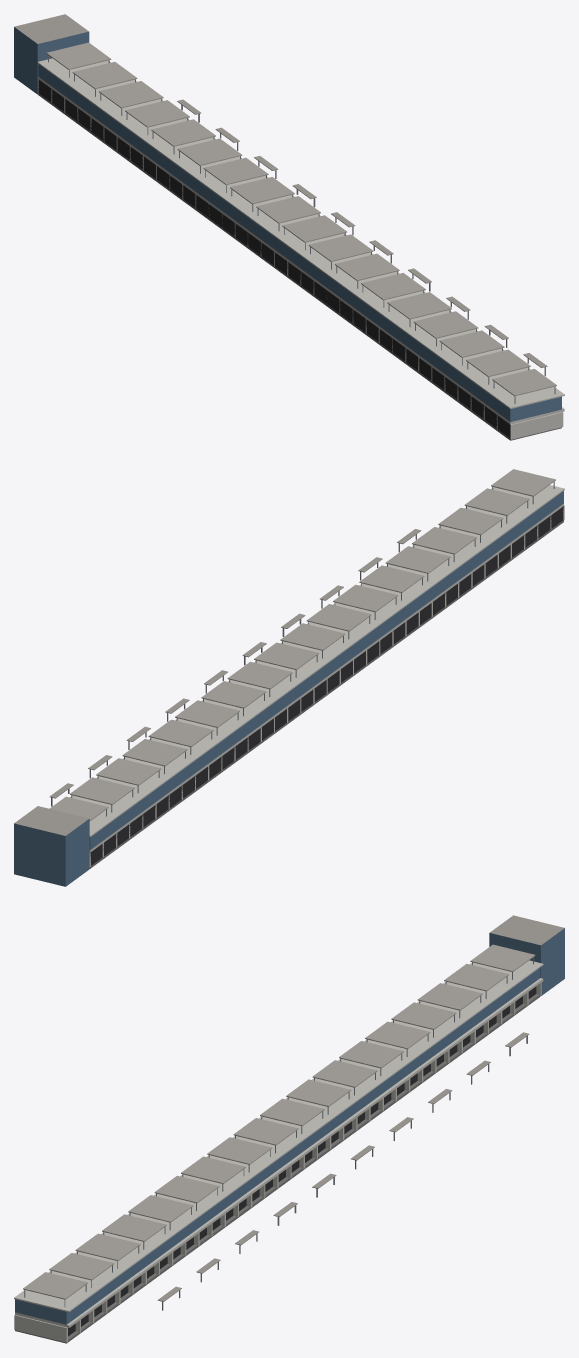
File: pit_building.glb
The picture shows the model from 3 angles, top to bottom: view 1: azimuth 30°, elevation 25°; view 2: azimuth 150°, elevation 25°; view 3: azimuth 330°, elevation 25°; orthographic projection.
Visible parts, largest first — view 1: chunk_0_0; view 2: chunk_0_0; view 3: chunk_0_0.
Part boxes in pixels (box(x1,y1,x2,y2)): chunk_0_0: box(14, 14, 564, 440); chunk_0_0: box(14, 469, 564, 886); chunk_0_0: box(14, 915, 564, 1343).
Bounding box in the file's own units: 30.8 × 16 × 284.
